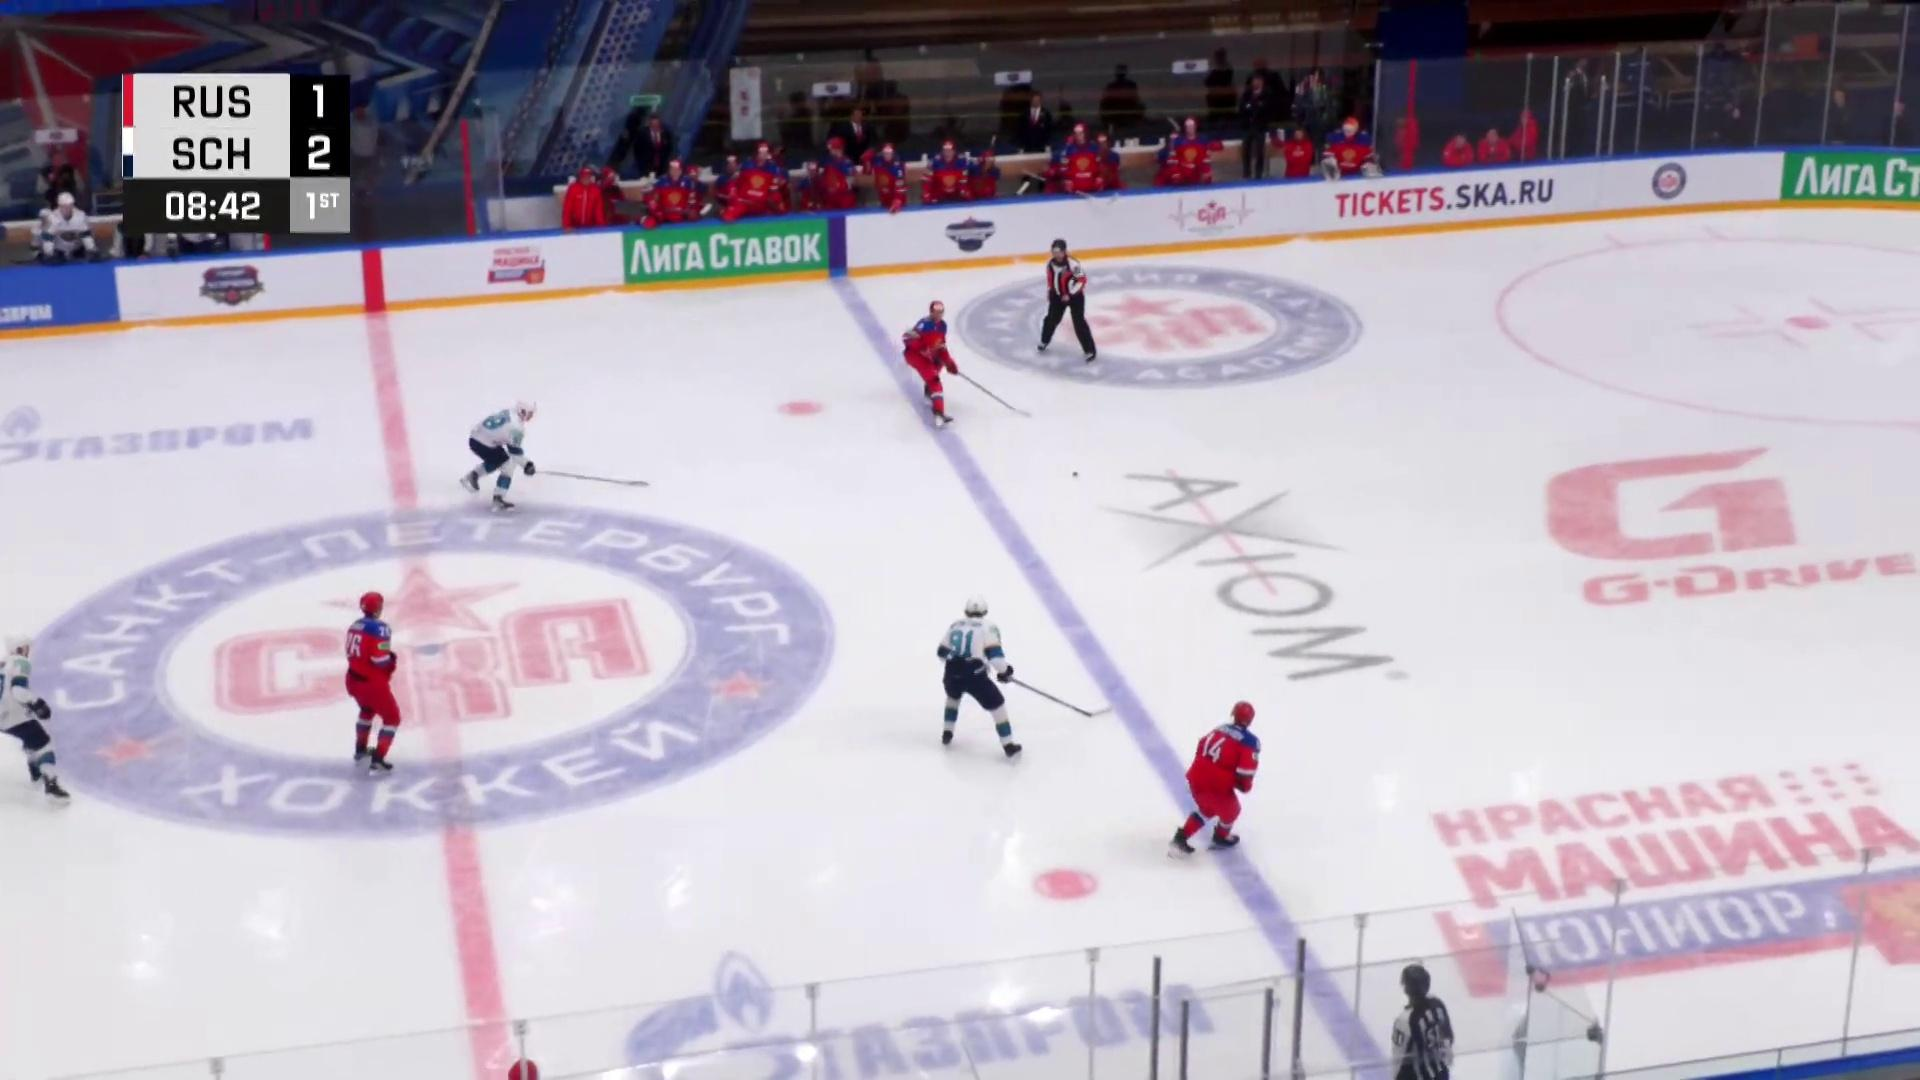ball: (1072, 471, 1079, 477)
